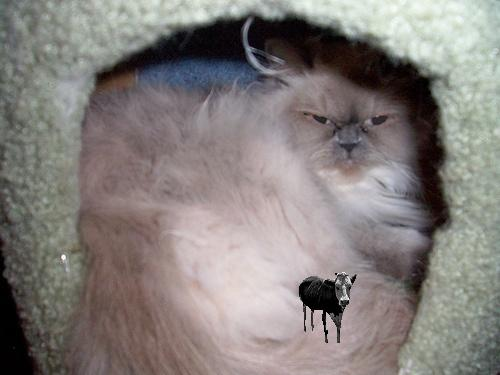tampered: (300, 273, 357, 343)
